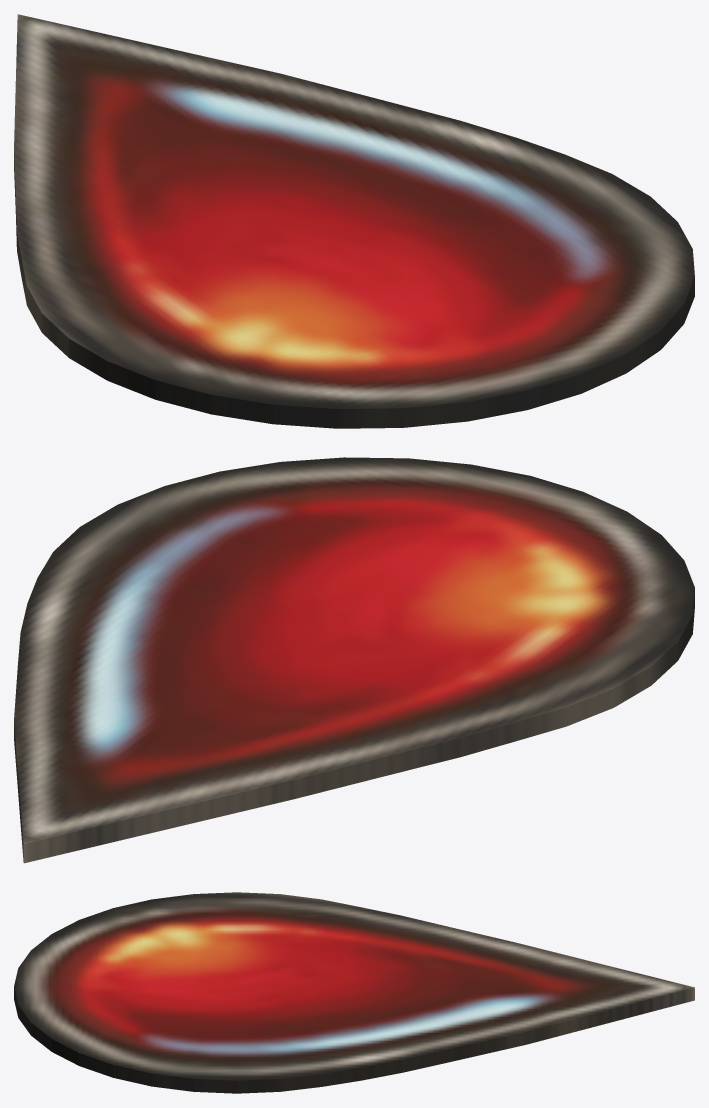
Rendered from BloodBloomHealth.glb.
3 renders of one model, top to bottom at view 1: azimuth 30°, elevation 25°; view 2: azimuth 150°, elevation 25°; view 3: azimuth 270°, elevation 25°, orthographic. The views are drawn at different scales.
Parts seen in each view (by area): view 1: Health; view 2: Health; view 3: Health.
Boxes of the visible parts, <box> form: Health: <box>14,14,694,428</box>; Health: <box>14,457,694,863</box>; Health: <box>14,892,694,1093</box>.
Bounding box in the file's own units: 0.9302 × 0.03 × 1.42.
Materials: 1 (1 with a texture image).
